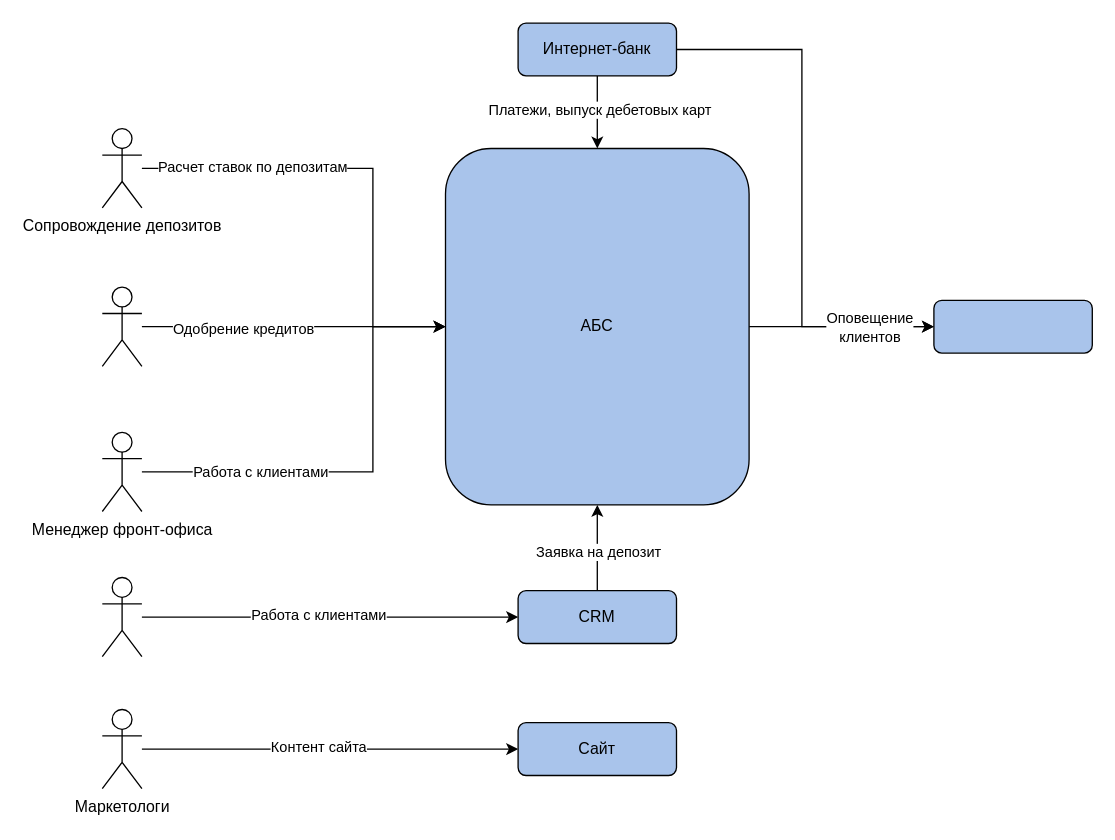
This 1115x840 diagram has some shape labels left out. Here are the shapes that lost their labels. From the top down, the centre of each, then its label:
the point at 121,326: Сопровождение кредитов
the point at 1012,326: СМС-шлюз
the point at 121,616: Сотрудник кол-центра
